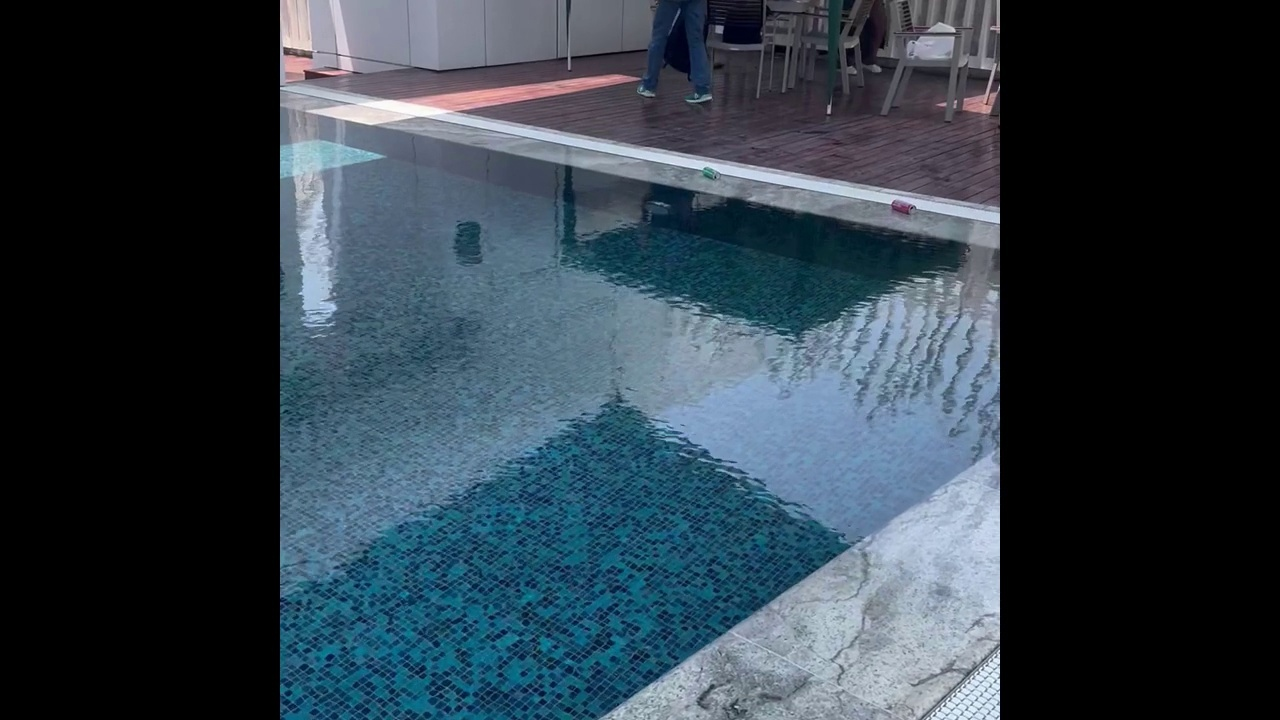debris: (888, 195, 918, 220), (701, 165, 722, 184)
